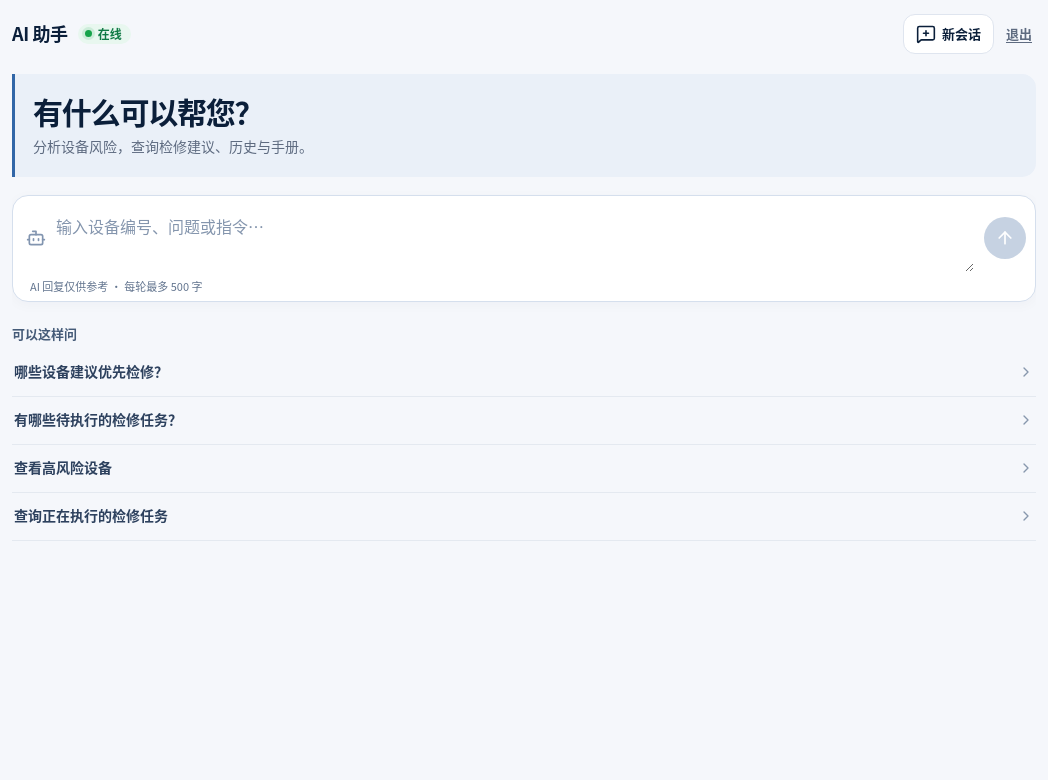
Scenario: timeout and server error leave the draft available for retry
Type "设备风险" into the text box named "输入问题".
click(515, 238); type("设备风险")  # box 56,205 -> 974,272
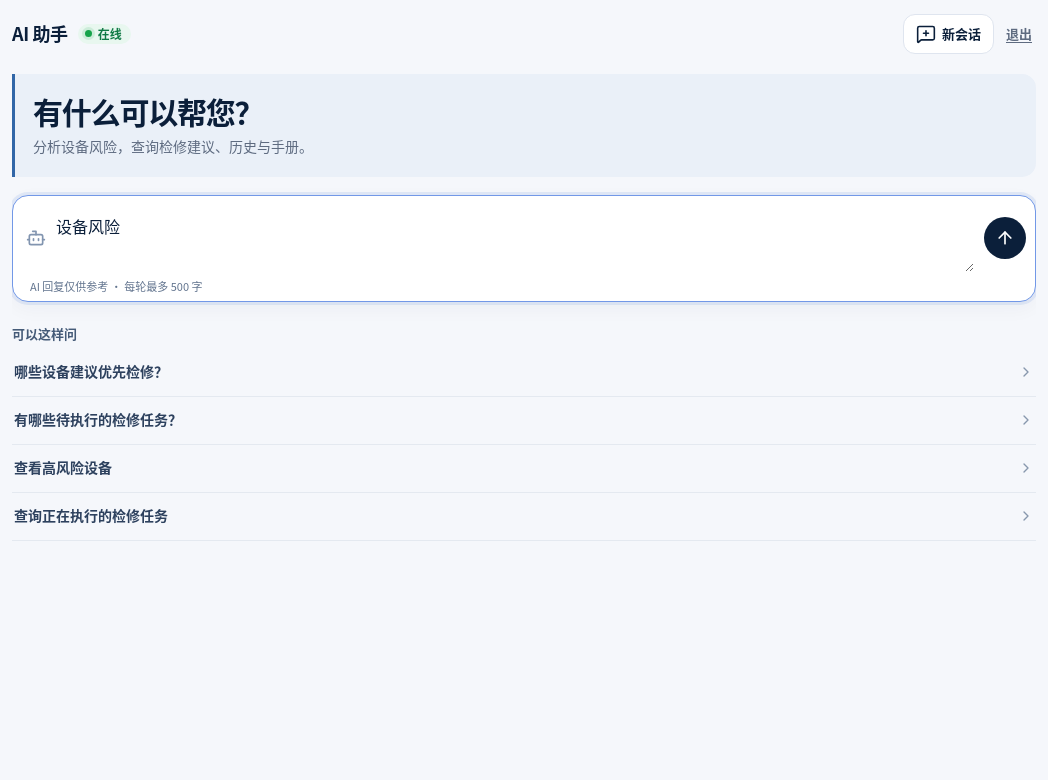
Click the button named "发送".
click(1005, 238)  # box 984,217 -> 1026,259
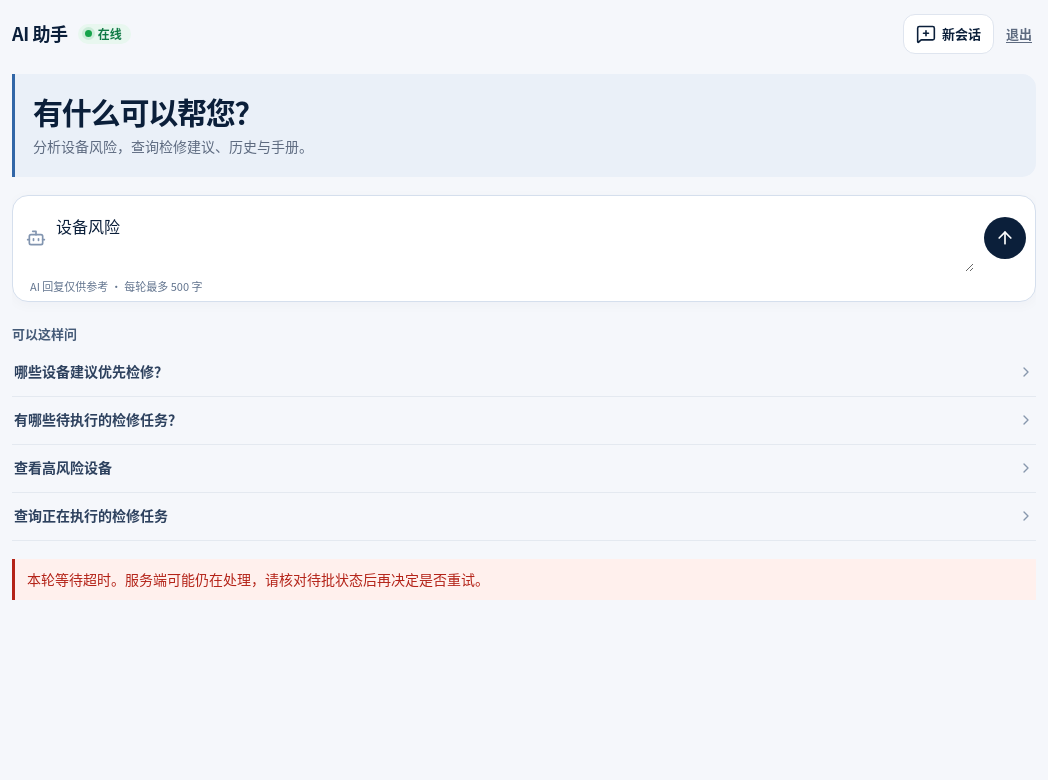
Result: the message shows "本轮等待超时" at 27,569 -> 489,589
Click the button named "发送".
click(1005, 238)  # box 984,217 -> 1026,259
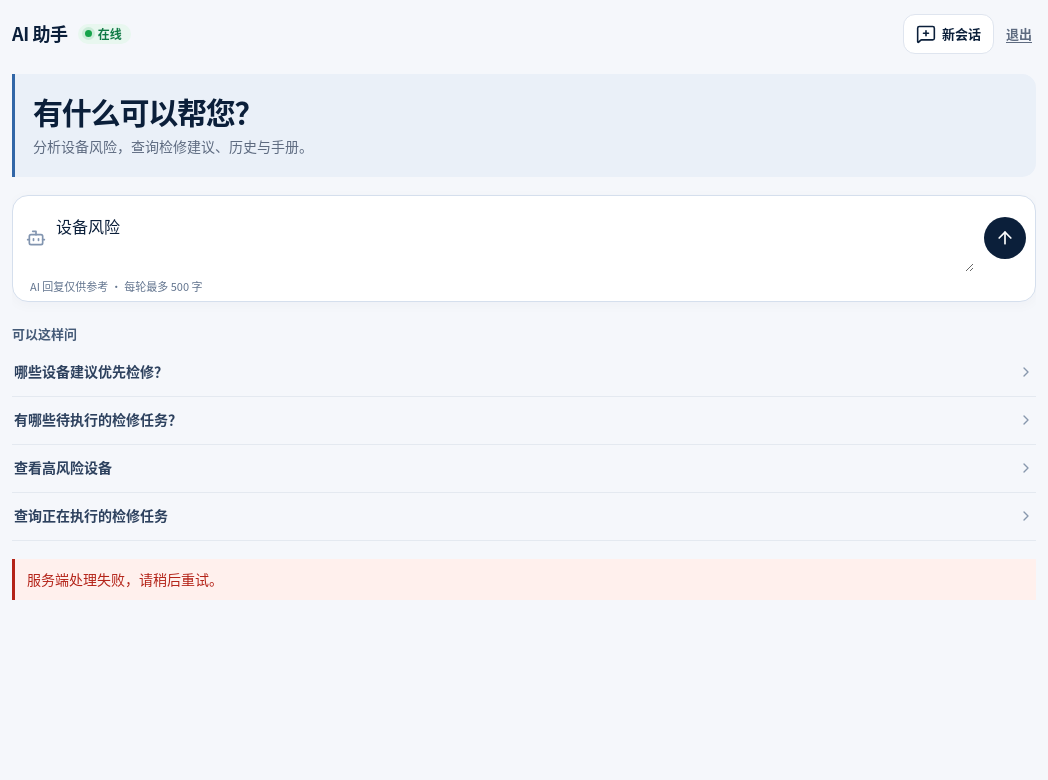
Result: the message shows "服务端处理失败" at 27,569 -> 223,589
